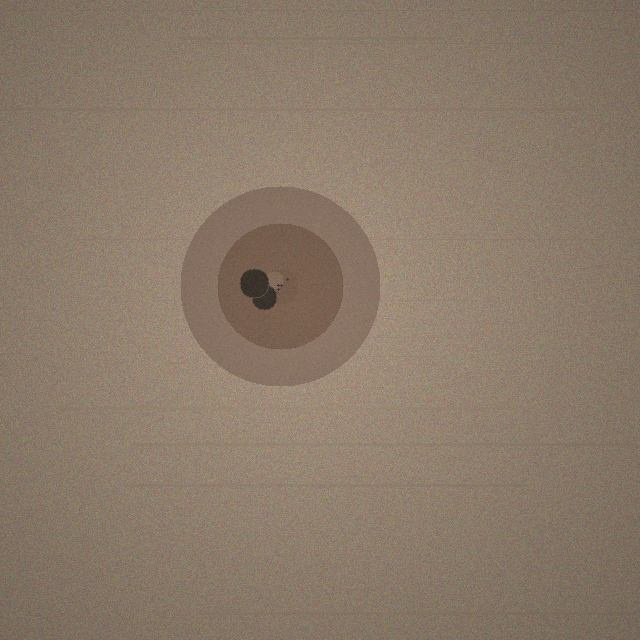shrinkage: (180, 186, 380, 386)
